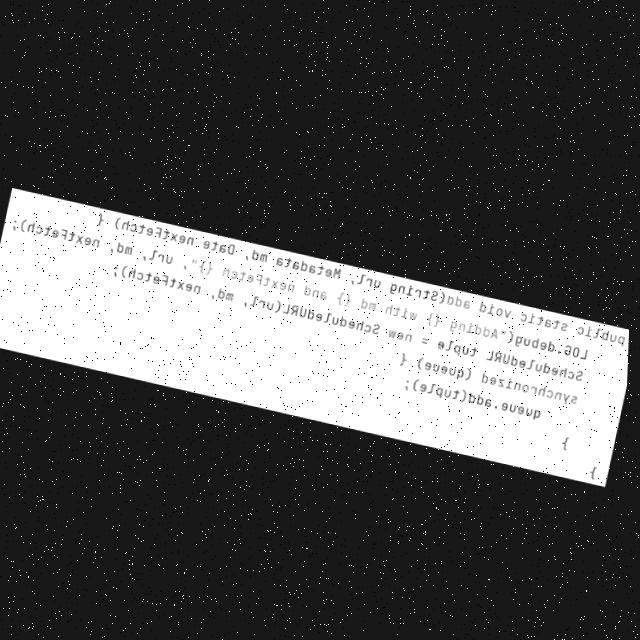code_screen: (0, 188, 629, 485)
